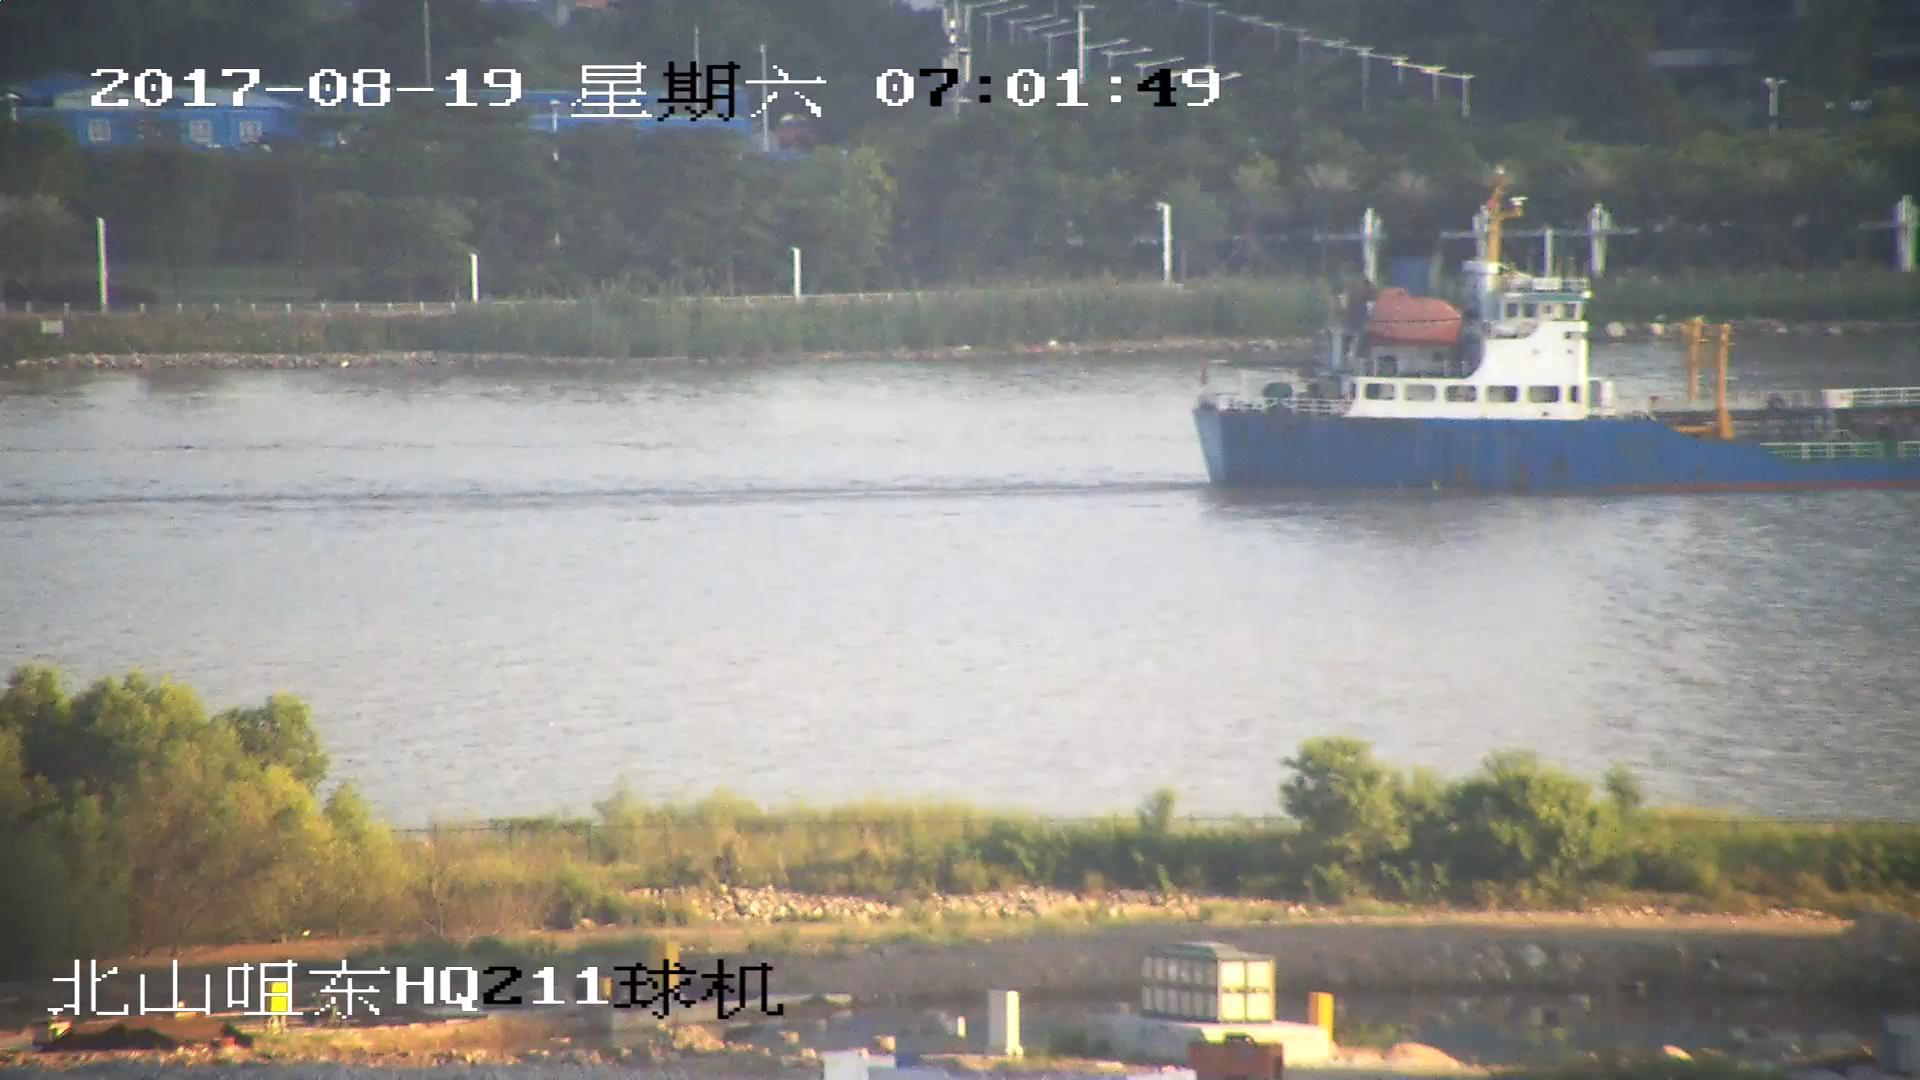Ship: (1189, 214, 1920, 498)
